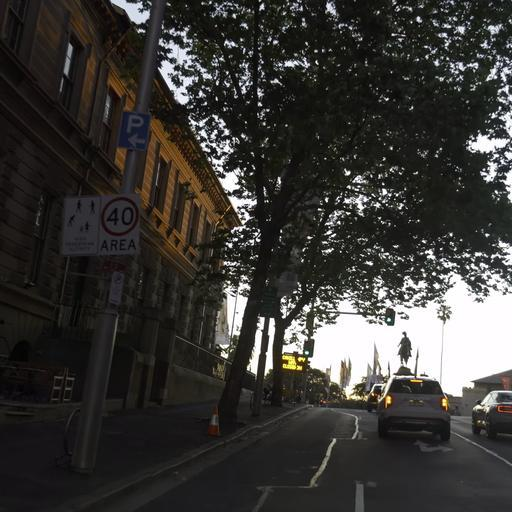Street light: (65, 0, 275, 475), (301, 305, 395, 403), (249, 264, 298, 416)
